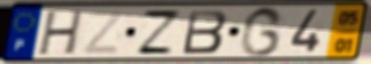4: (288, 7, 323, 55)
B: (181, 8, 230, 56)
G: (237, 5, 286, 59)
H: (35, 8, 87, 57)
Z: (133, 9, 184, 56), (80, 9, 128, 56)
